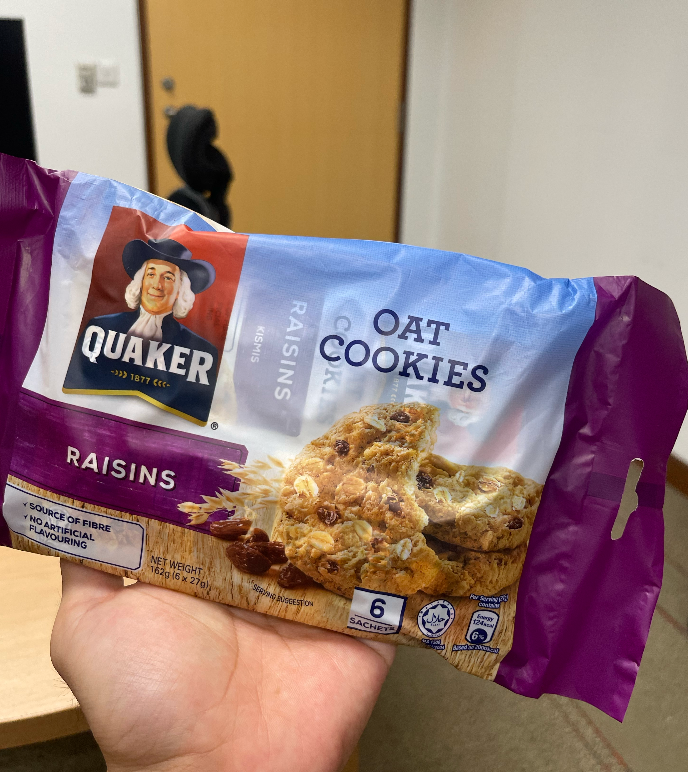cookies_100g-199g: (49, 251, 522, 631)
